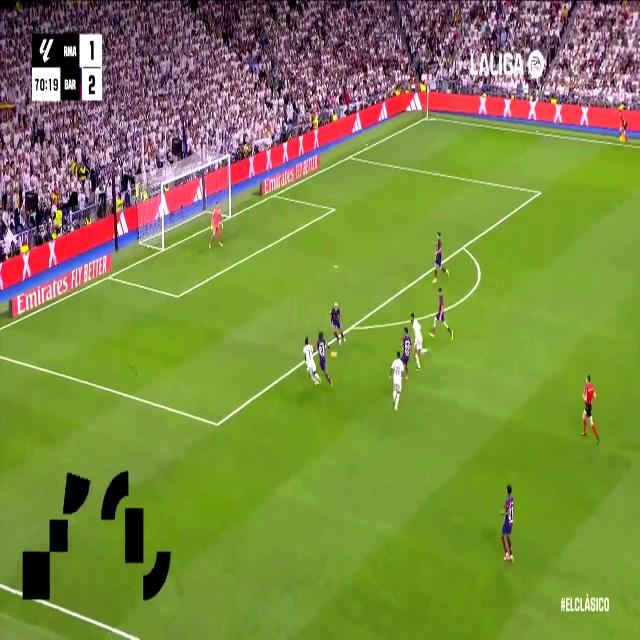bigarea_bottom_inner: (212, 410, 223, 437)
bigarea_top_inner: (535, 183, 543, 200)
bigarea_top_outter: (346, 149, 354, 162)
bottom_arc_area_intersection: (347, 314, 358, 336)
corner: (424, 112, 431, 120)
smallarea_bottom_inner: (174, 286, 182, 306)
smallarea_top_inner: (330, 202, 336, 215)
top_arc_area_intersection: (461, 240, 466, 253)
